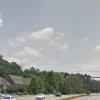Traffic light: (60, 70, 93, 82)
